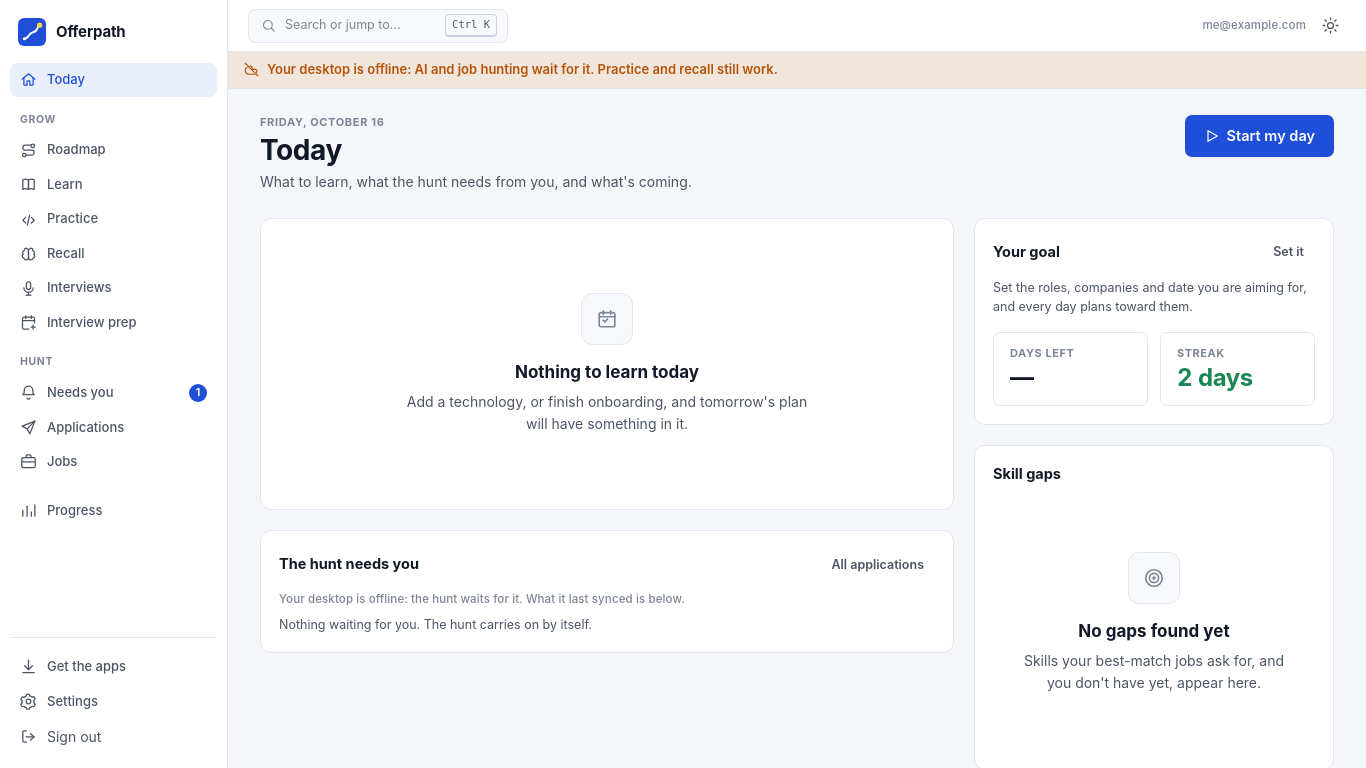
Test: the signed-in web app › signs out back to the sign-in page
Check: the heading "Today" is shown, box [260, 133, 342, 167]
Click the button "Sign out" at (114, 736), box [10, 719, 217, 754]
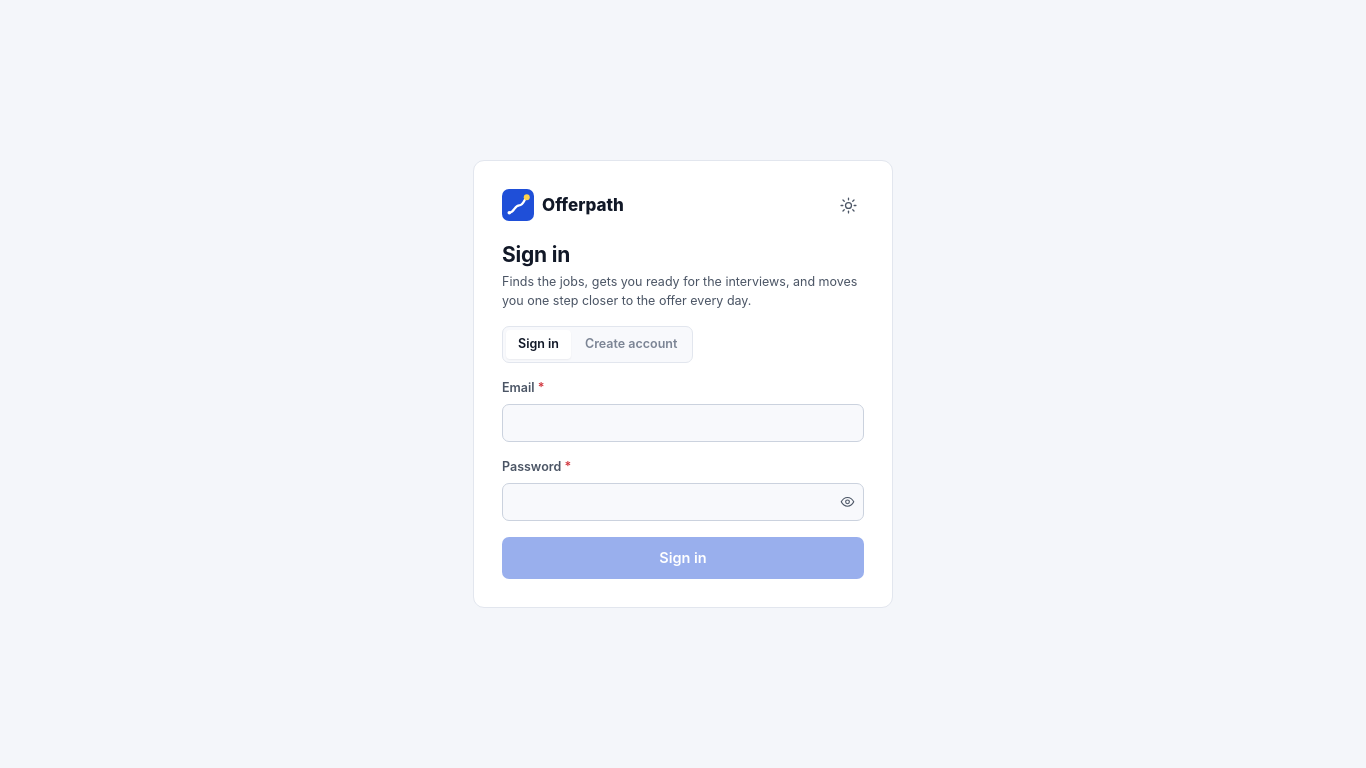
Check: the heading "Sign in" is shown, box [502, 242, 570, 268]
